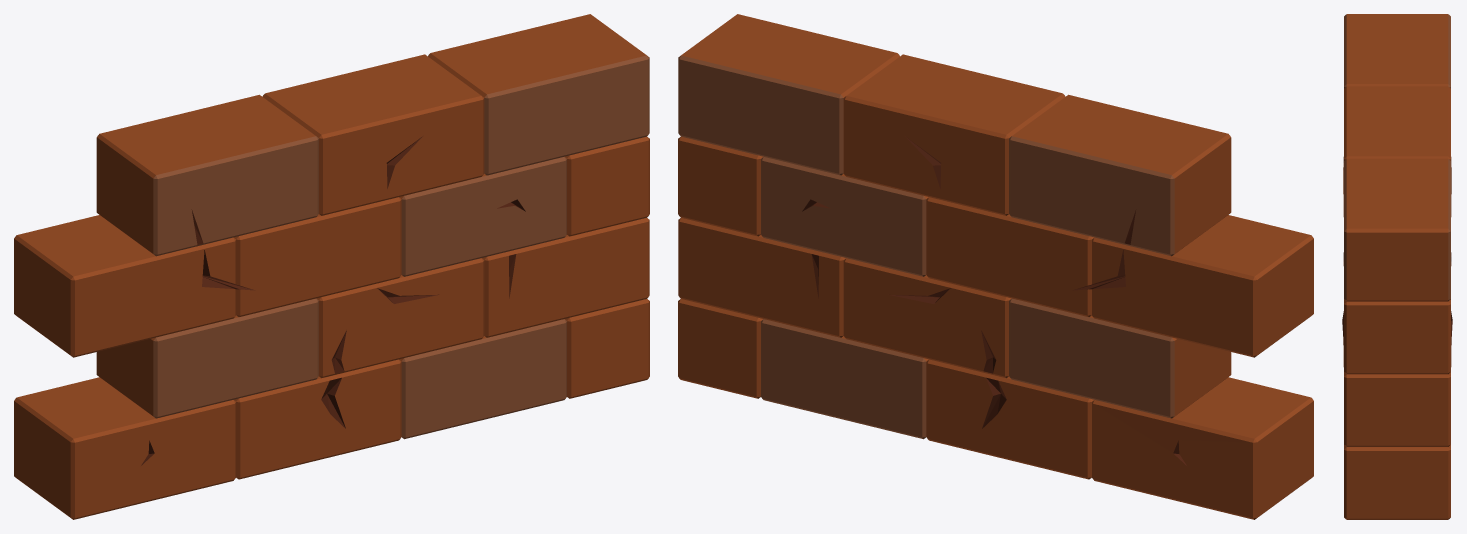
The model's file is Wall Edge.fbx.
The picture shows the model from 3 angles, left to right: view 1: azimuth 30°, elevation 25°; view 2: azimuth 150°, elevation 25°; view 3: azimuth 270°, elevation 25°; orthographic projection. The views are drawn at different scales.
Parts seen in each view (by area): view 1: Wall Asset Edge; view 2: Wall Asset Edge; view 3: Wall Asset Edge.
Boxes of the visible parts, x1,y1,x2,y2 form: Wall Asset Edge: (14,14,649,519); Wall Asset Edge: (678,14,1313,519); Wall Asset Edge: (1342,14,1452,519).
Bounding box in the file's own units: 560 × 300 × 103.
